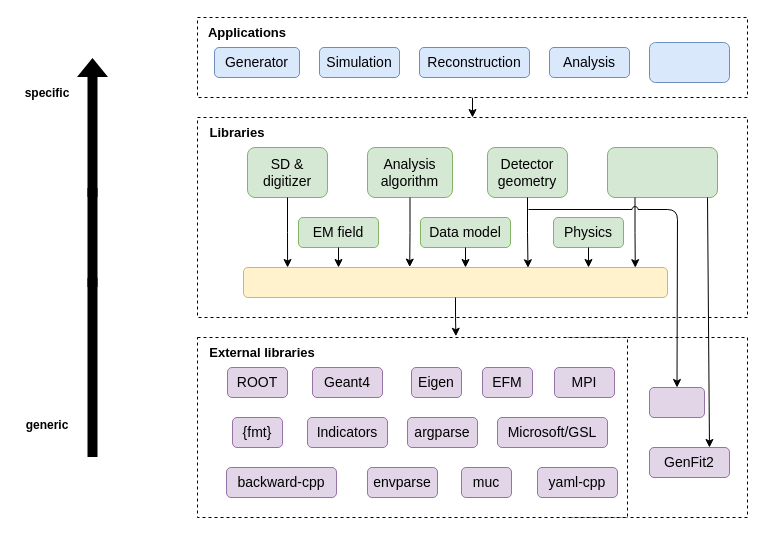
This 765x535 diagram has some shape labels left out. Here are the shapes that lost their labels. From the top down, the centre of each, then its label:
(689,62): Event display
(662,172): Reconstruction algorithm
(455,282): Mustard
(676,402): PMP
